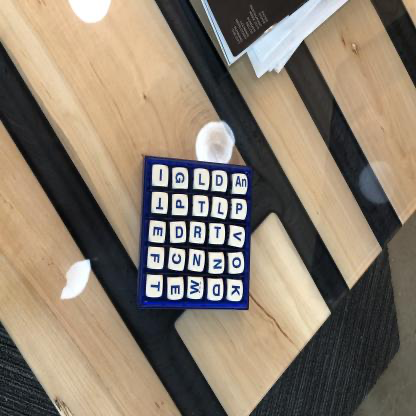an: (234, 174, 249, 195)
c: (170, 249, 186, 271)
d: (208, 279, 225, 301), (171, 222, 187, 244), (213, 171, 229, 192)
e: (150, 222, 167, 243), (168, 280, 184, 301)
f: (148, 248, 165, 270)
g: (174, 168, 189, 189)
i: (153, 166, 169, 188)
k: (229, 280, 244, 302)
l: (213, 198, 229, 220), (195, 169, 211, 190)
n: (209, 253, 226, 275), (190, 250, 205, 272)
o: (230, 254, 245, 275)
p: (173, 195, 189, 216), (232, 200, 248, 220)
r: (191, 222, 206, 243)
t: (152, 193, 169, 215), (147, 276, 163, 298), (194, 197, 210, 218), (211, 224, 226, 246)
v: (231, 227, 246, 246)
w: (189, 277, 205, 300)
